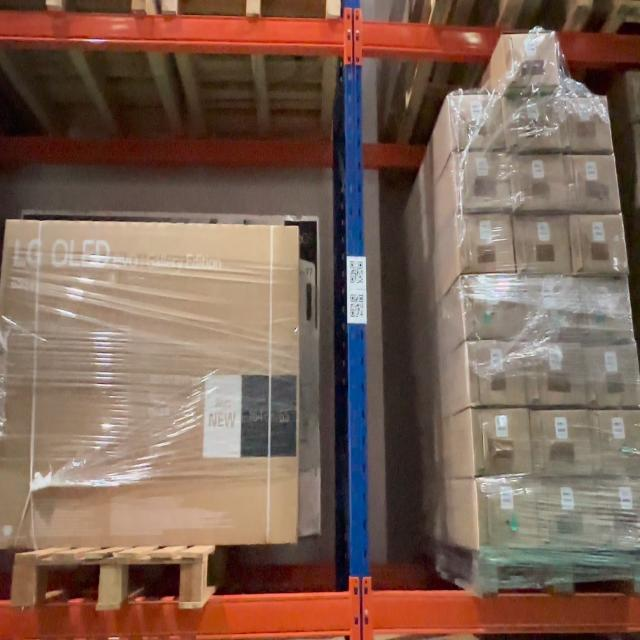box: (7, 228, 296, 542), (479, 479, 534, 548), (476, 408, 529, 476), (534, 411, 589, 476), (541, 480, 594, 546), (527, 343, 582, 405), (471, 342, 521, 404), (466, 280, 517, 338), (523, 280, 573, 339), (519, 215, 568, 275), (588, 344, 637, 404), (583, 276, 627, 342), (595, 408, 640, 471), (458, 154, 507, 211), (461, 216, 510, 273), (575, 215, 621, 274), (515, 153, 561, 211), (450, 97, 500, 148), (508, 98, 558, 149), (568, 156, 614, 210), (504, 35, 554, 84), (564, 98, 606, 150)
